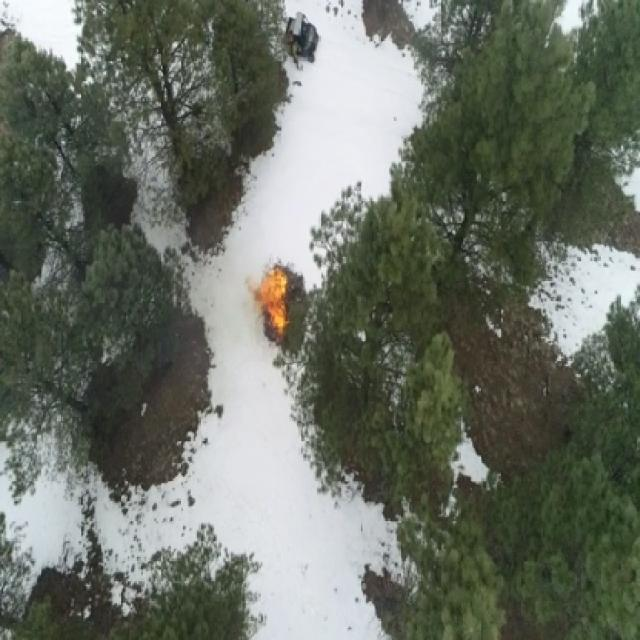Fire: (254, 265, 289, 340)
